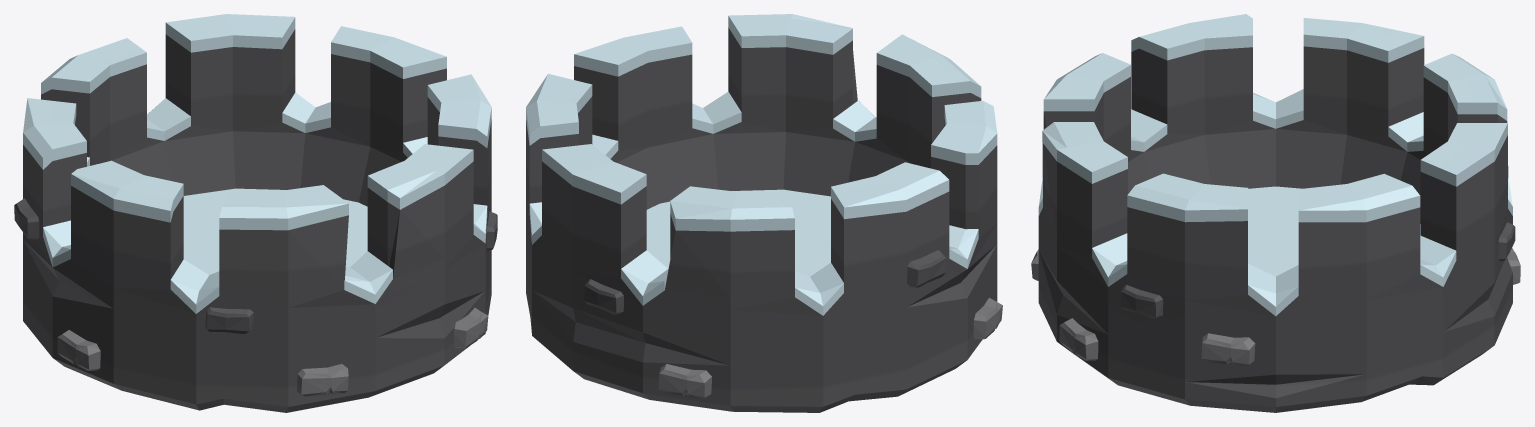
Rendered from SM_Bld_Castle_Tower_Round_Top_01_Snow.glb.
3 views of the same model, side by side, from view 1: azimuth 30°, elevation 25°; view 2: azimuth 150°, elevation 25°; view 3: azimuth 270°, elevation 25° (orthographic).
Parts seen in each view (by area): view 1: SM_Bld_Castle_Tower_Round_Top_01_Snow; view 2: SM_Bld_Castle_Tower_Round_Top_01_Snow; view 3: SM_Bld_Castle_Tower_Round_Top_01_Snow.
Part boxes in pixels (<box>): SM_Bld_Castle_Tower_Round_Top_01_Snow: <box>14,14,497,412</box>; SM_Bld_Castle_Tower_Round_Top_01_Snow: <box>526,14,1002,412</box>; SM_Bld_Castle_Tower_Round_Top_01_Snow: <box>1031,14,1520,412</box>.
Size of the model in its own units: 3.35 by 1.56 by 3.35.
Materials: 1 (1 with a texture image).
